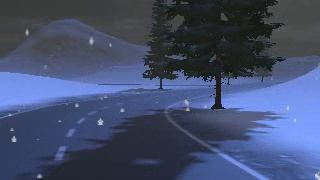Lane: (0, 82, 283, 179)
